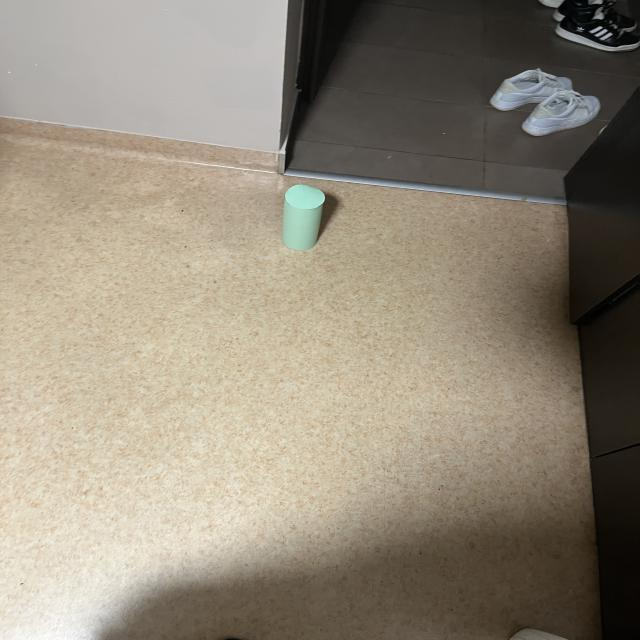meta: (282, 184, 325, 250)
